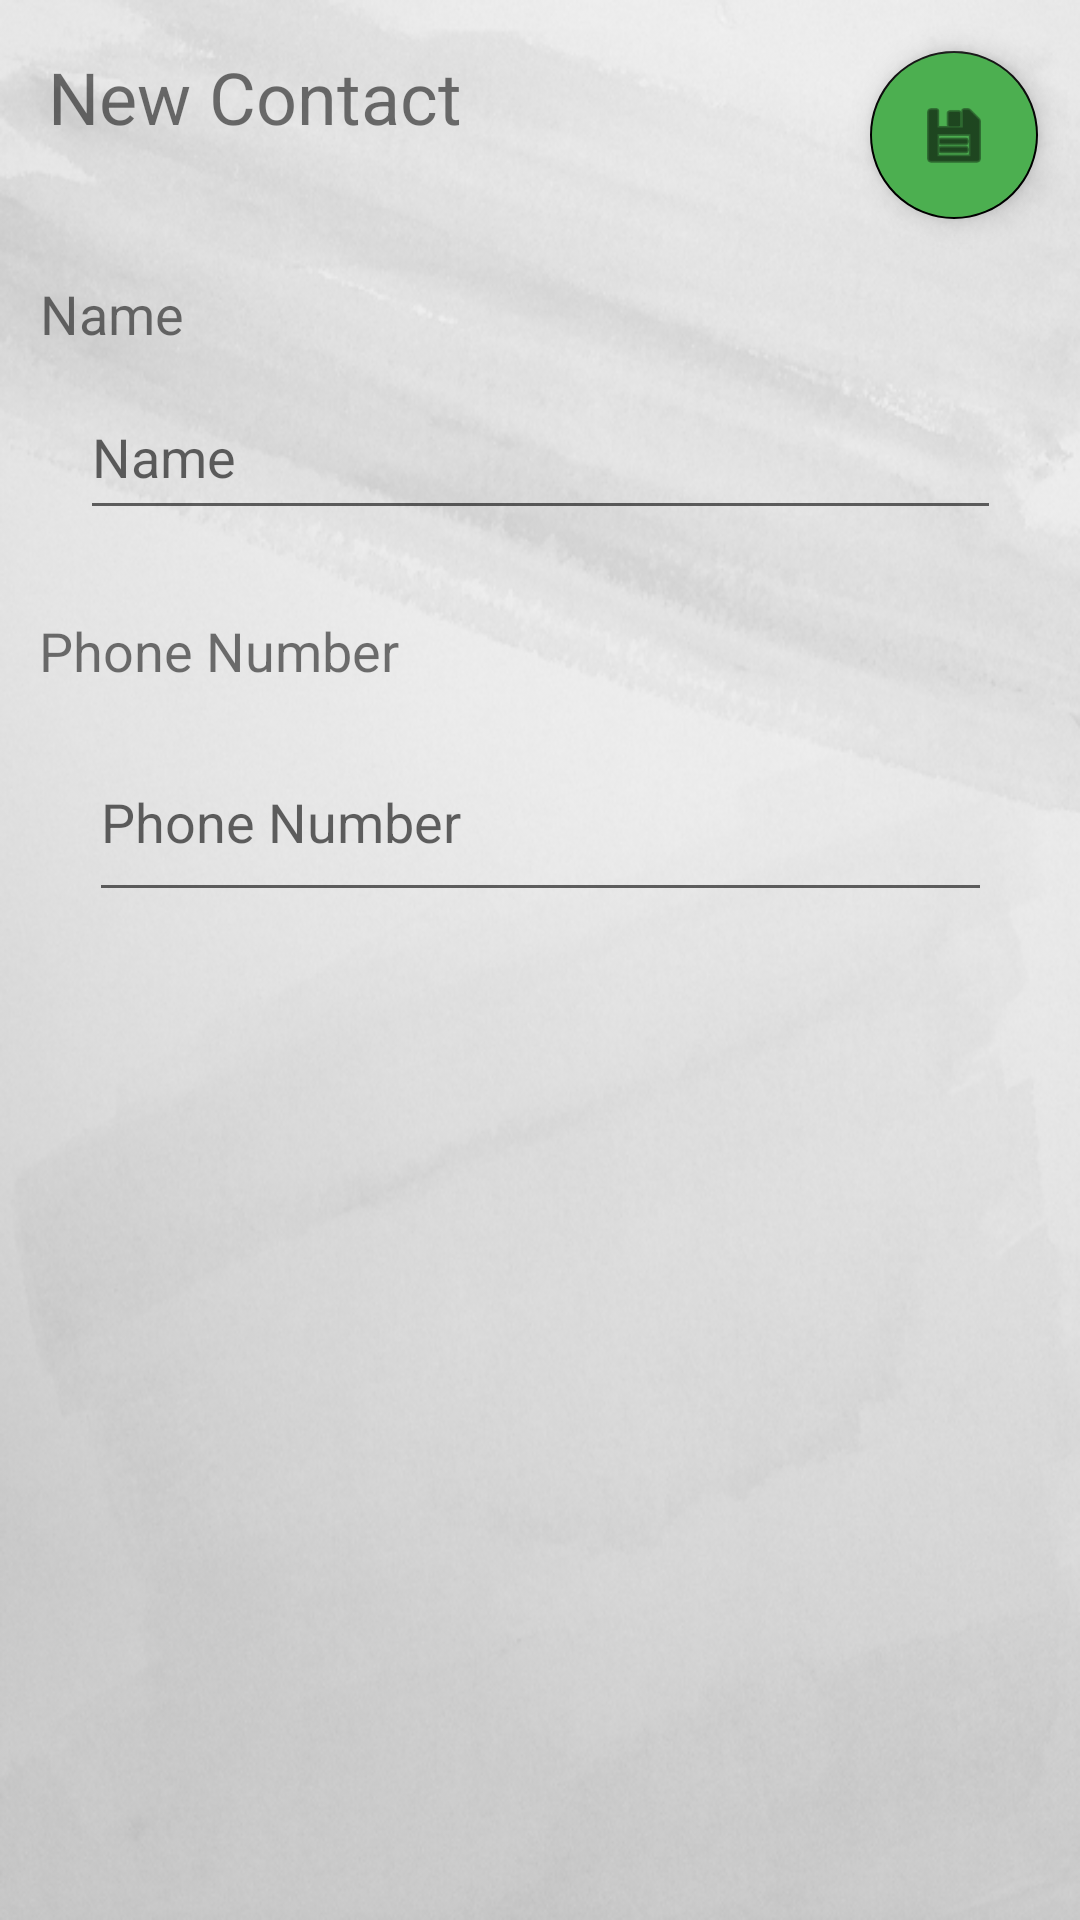

Named icons in this screenshot (1080 × 1920) and their bounding boxes, (x1, y1, x2, y2):
save: (870, 51, 1038, 219)
